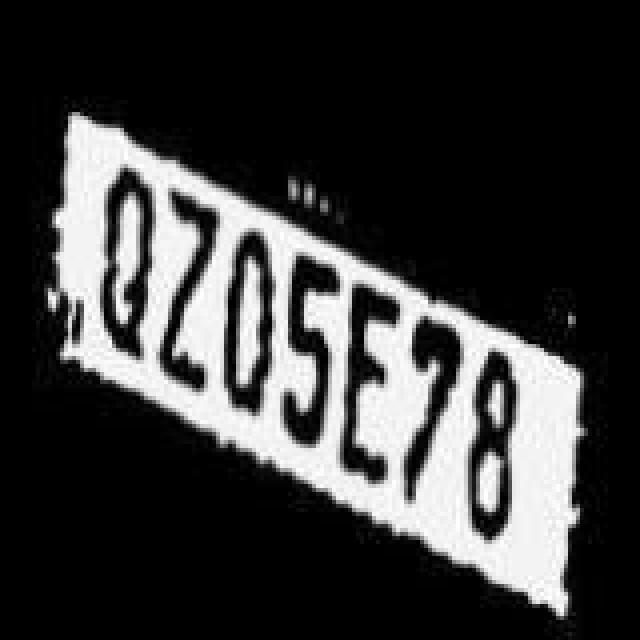5: (280, 242, 344, 450)
7: (386, 312, 466, 504)
8: (470, 346, 518, 554)
E: (338, 274, 398, 482)
O: (218, 216, 278, 432)
Q: (94, 160, 150, 360)
Z: (158, 186, 218, 398)
